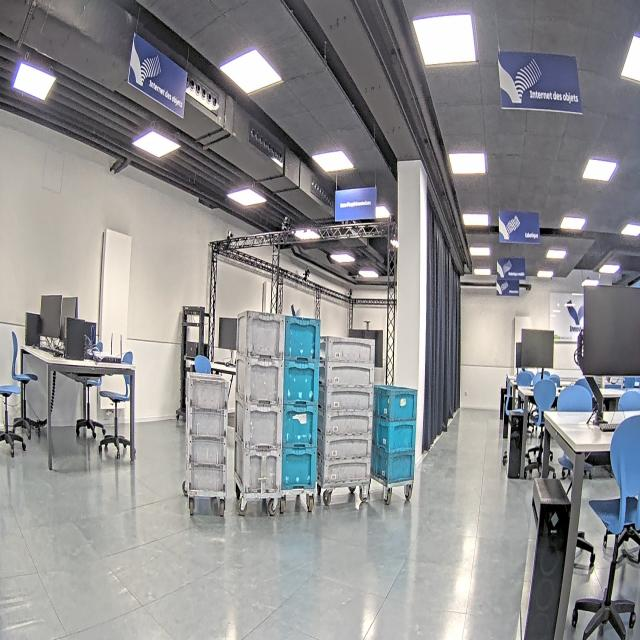Box3G: (322, 333, 379, 368), (317, 432, 374, 464), (318, 406, 372, 436), (321, 360, 375, 390), (319, 383, 374, 412), (318, 456, 372, 484)
Box4G: (234, 432, 282, 493), (237, 349, 286, 404), (235, 393, 282, 450), (237, 310, 286, 359)
Box8G: (187, 374, 232, 411), (186, 428, 227, 468), (186, 458, 227, 498), (188, 408, 228, 441)
BoxB4: (282, 360, 322, 405), (286, 312, 320, 361), (284, 400, 317, 450), (280, 450, 320, 490)
BoxB8: (372, 445, 414, 481), (376, 416, 416, 452), (376, 386, 417, 421)
